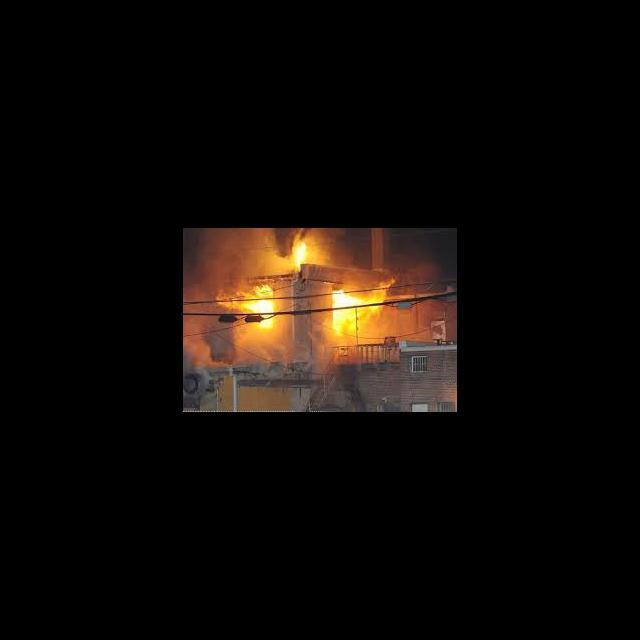Fire: (328, 276, 398, 336), (214, 278, 278, 334), (290, 237, 310, 268)
